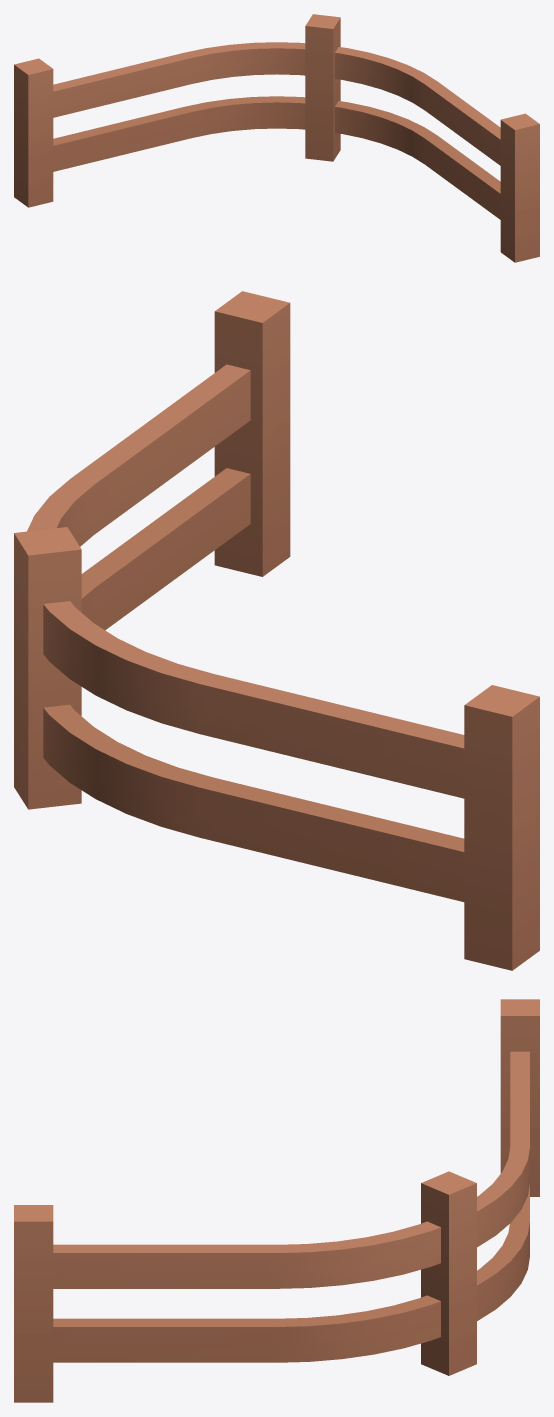
The model's file is fence-curved.glb.
3 views of the same model, one above another, from view 1: azimuth 30°, elevation 25°; view 2: azimuth 150°, elevation 25°; view 3: azimuth 270°, elevation 25° (orthographic). The views are drawn at different scales.
Parts seen in each view (by area): view 1: fence-curved; view 2: fence-curved; view 3: fence-curved.
Boxes of the visible parts, box(x1,y1,x2,y2) form: fence-curved: box(14, 14, 539, 262); fence-curved: box(14, 291, 539, 970); fence-curved: box(14, 999, 539, 1402).
Size of the model in its own units: 1 by 0.38 by 1.
Materials: 1 (1 with a texture image).
